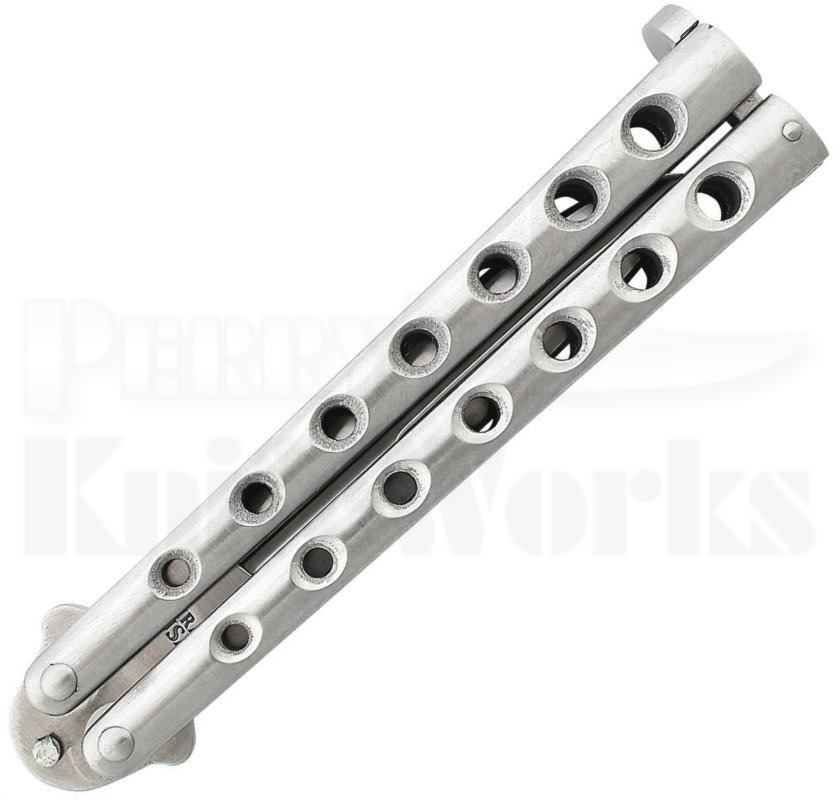knife: (8, 2, 836, 781)
